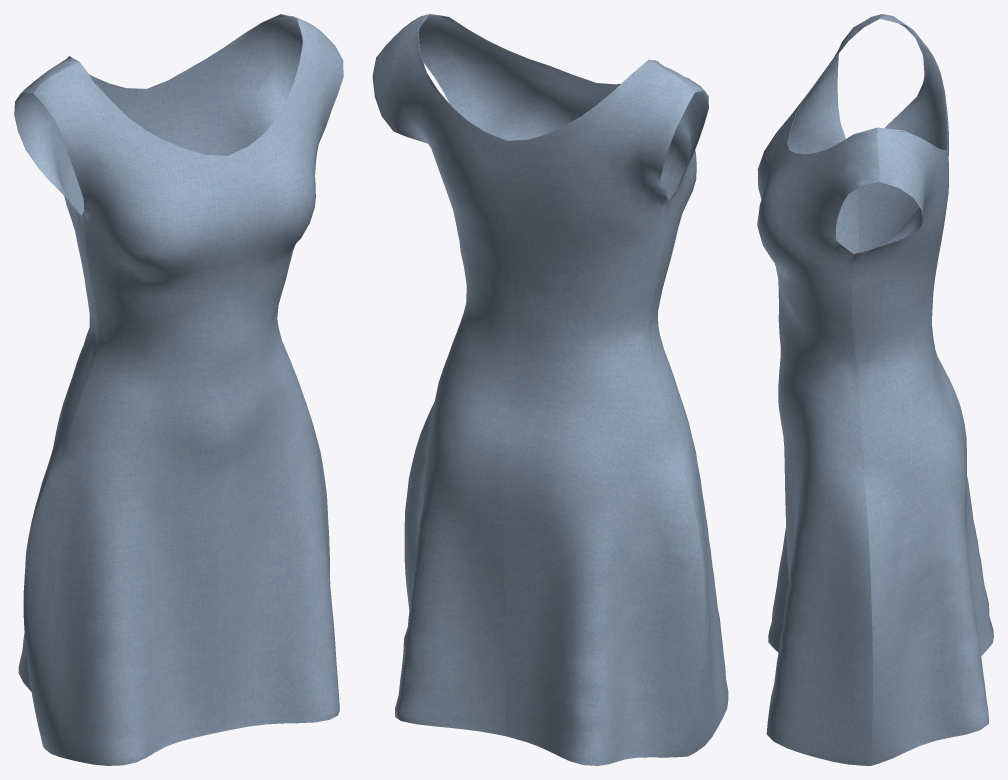
The model's file is dress.fbx.
3 renders of one model, left to right at view 1: azimuth 30°, elevation 25°; view 2: azimuth 150°, elevation 25°; view 3: azimuth 270°, elevation 25°, orthographic. The views are drawn at different scales.
Visible parts, largest first — view 1: dress; view 2: dress; view 3: dress.
Part boxes in pixels (bbox=[...]): dress: bbox=[14, 14, 343, 765]; dress: bbox=[372, 14, 728, 765]; dress: bbox=[757, 14, 993, 765].
Bounding box in the file's own units: 16.68 × 34.56 × 11.51.
